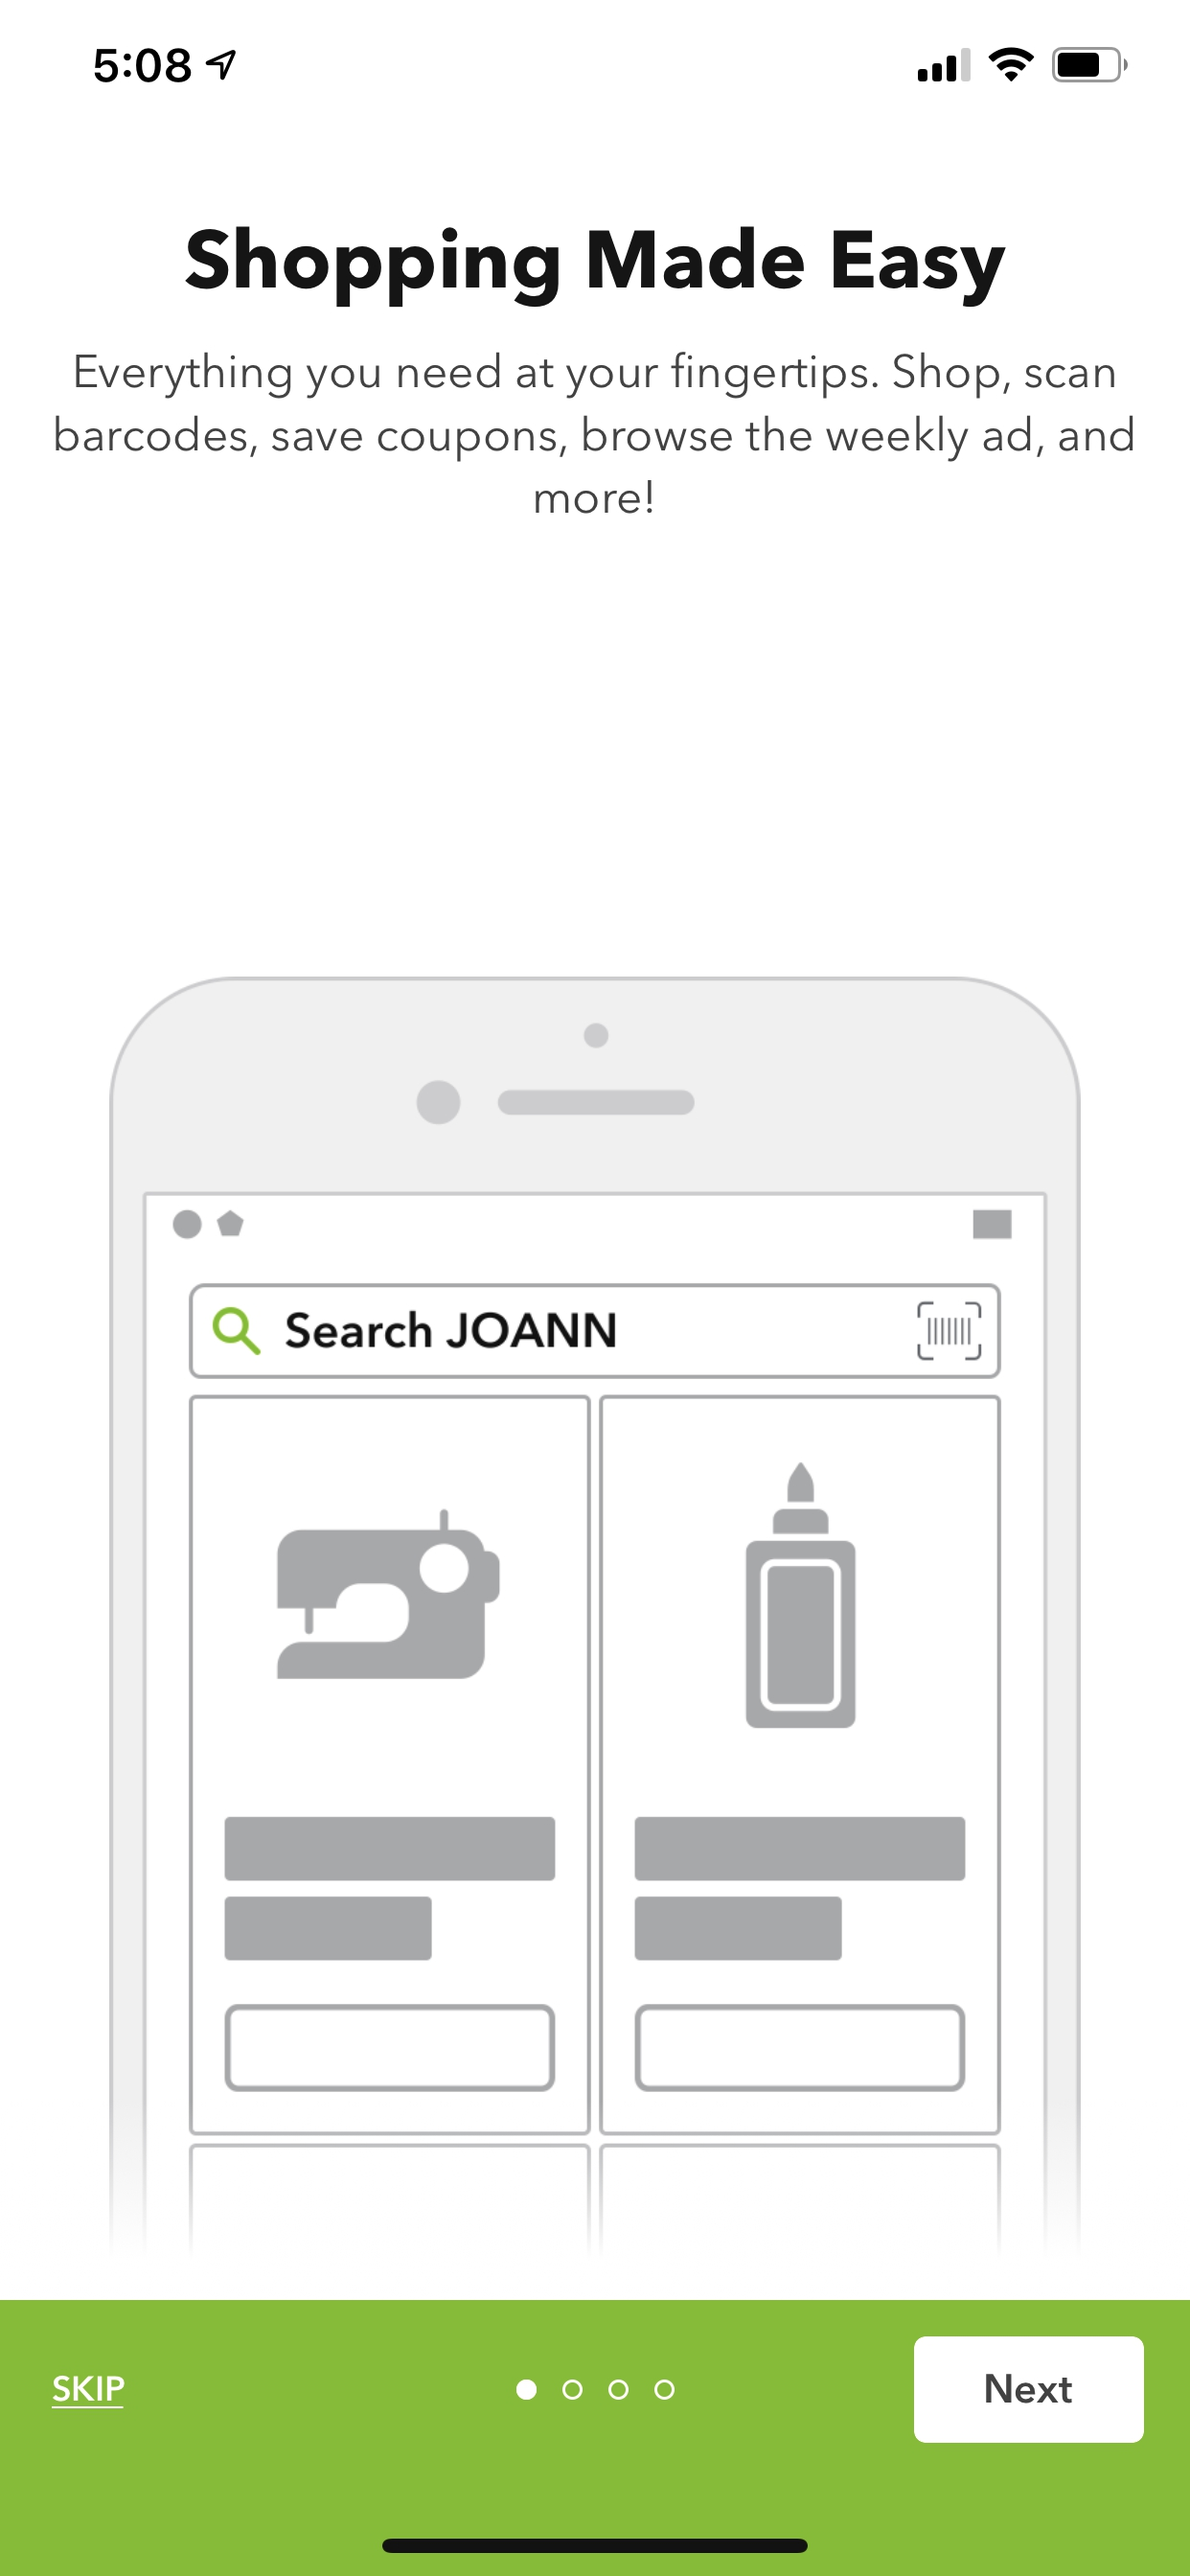Image: (108, 976, 1082, 2256)
PageIndicator: (516, 2379, 674, 2400)
Text: (56, 352, 1134, 514), (186, 227, 1006, 307), (51, 2376, 125, 2408)
TextButton: (914, 2336, 1144, 2443)
UpperTaskBar: (94, 48, 1128, 84)
